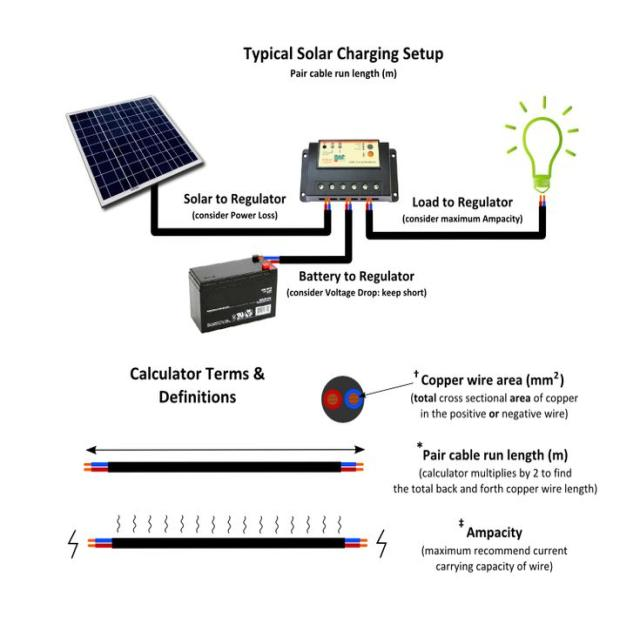clean-solar-panel: (69, 98, 201, 205)
